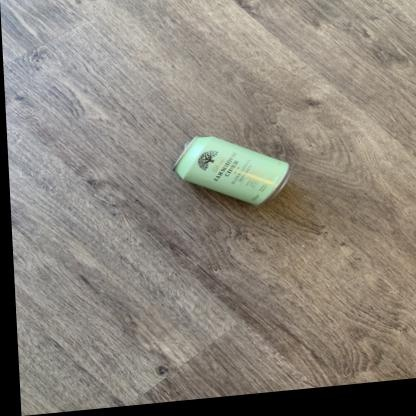trash: (175, 136, 288, 204)
